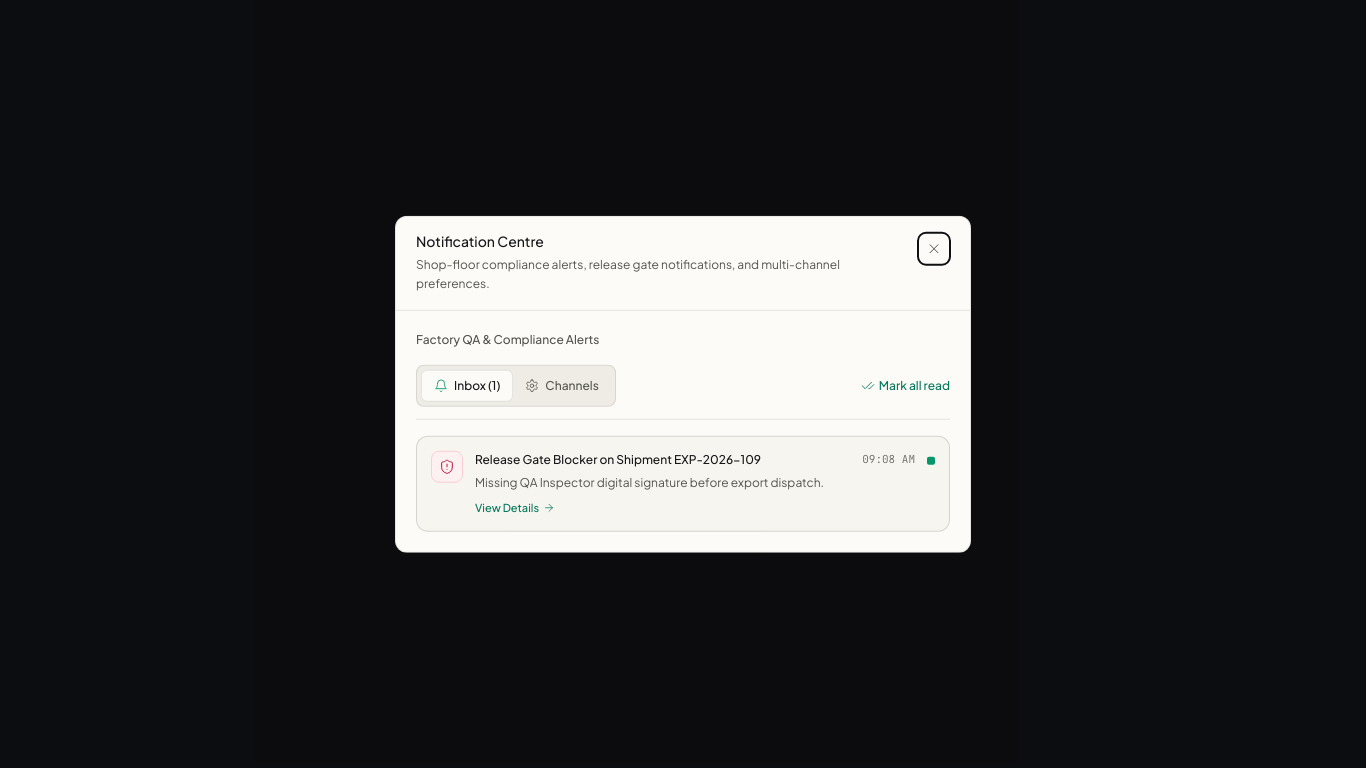
it: Prompt P14: Notification Centre Modal & Channels › switches to Channels preferences tab and toggles WhatsApp dispatch
The image size is (1366, 768).
Step 1. Click the button "Channels" → x=562, y=385, box [513,369,611,401]
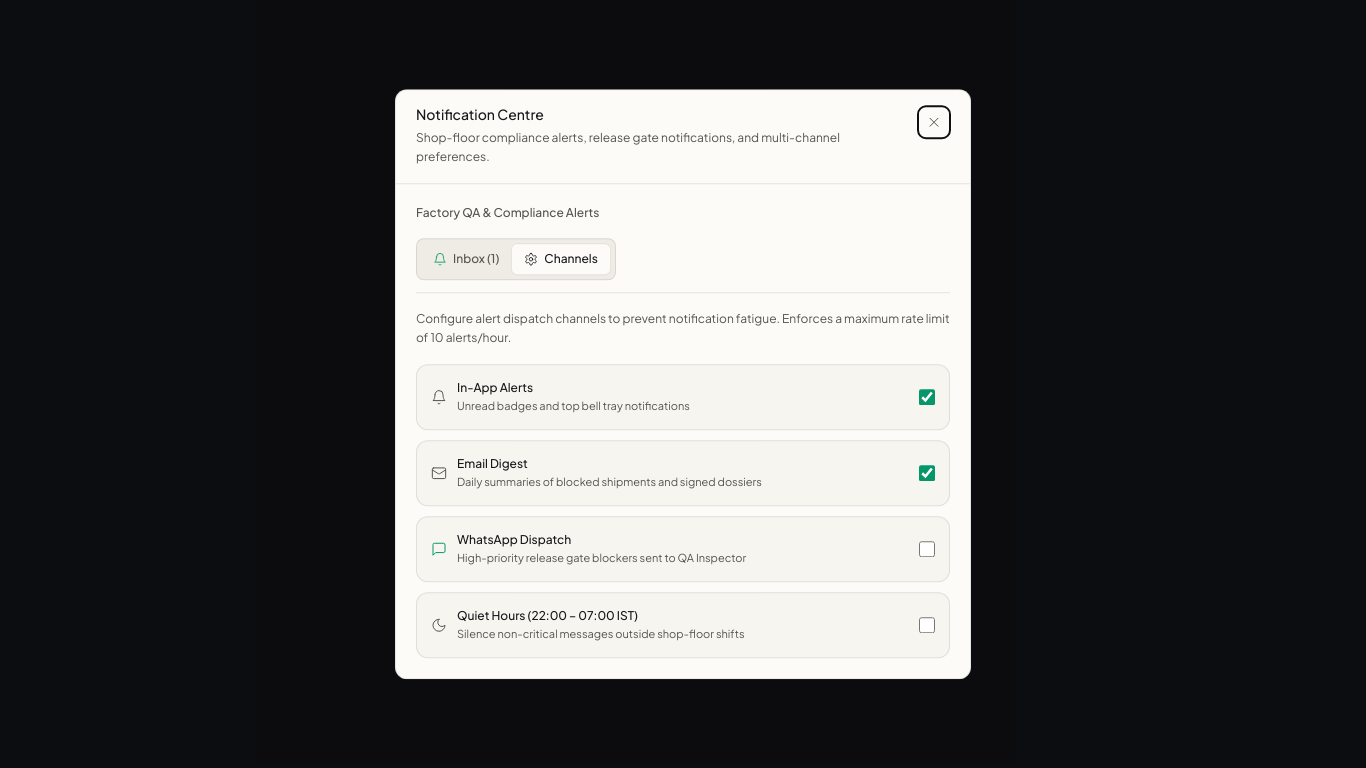
Now the text "In-App Alerts" is shown, box [457,380,533,395]
Now the text "Email Digest" is shown, box [457,456,528,471]
Now the text "WhatsApp Dispatch" is shown, box [457,532,571,547]
